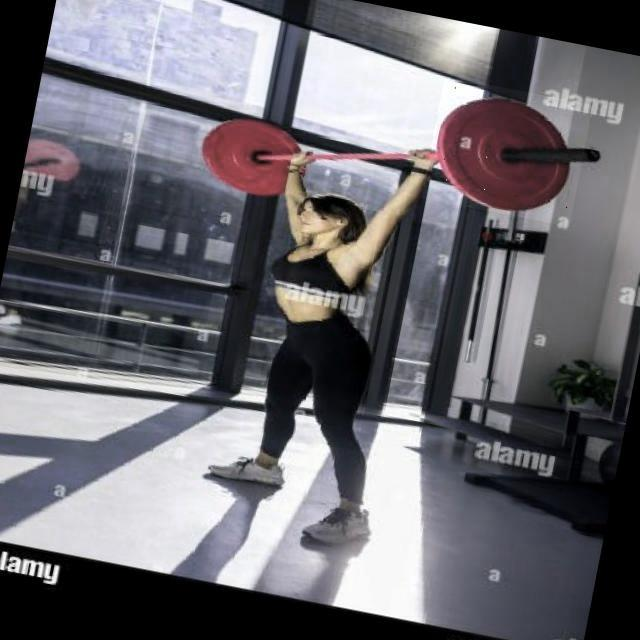barbell: (422, 76, 594, 227)
